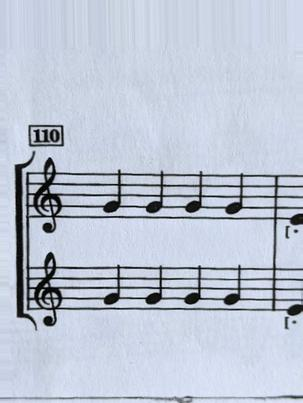G: (98, 262, 130, 313), (98, 167, 129, 219), (220, 263, 248, 317), (141, 167, 170, 219), (219, 167, 248, 219), (181, 169, 208, 221), (141, 262, 168, 314), (181, 261, 207, 313)
